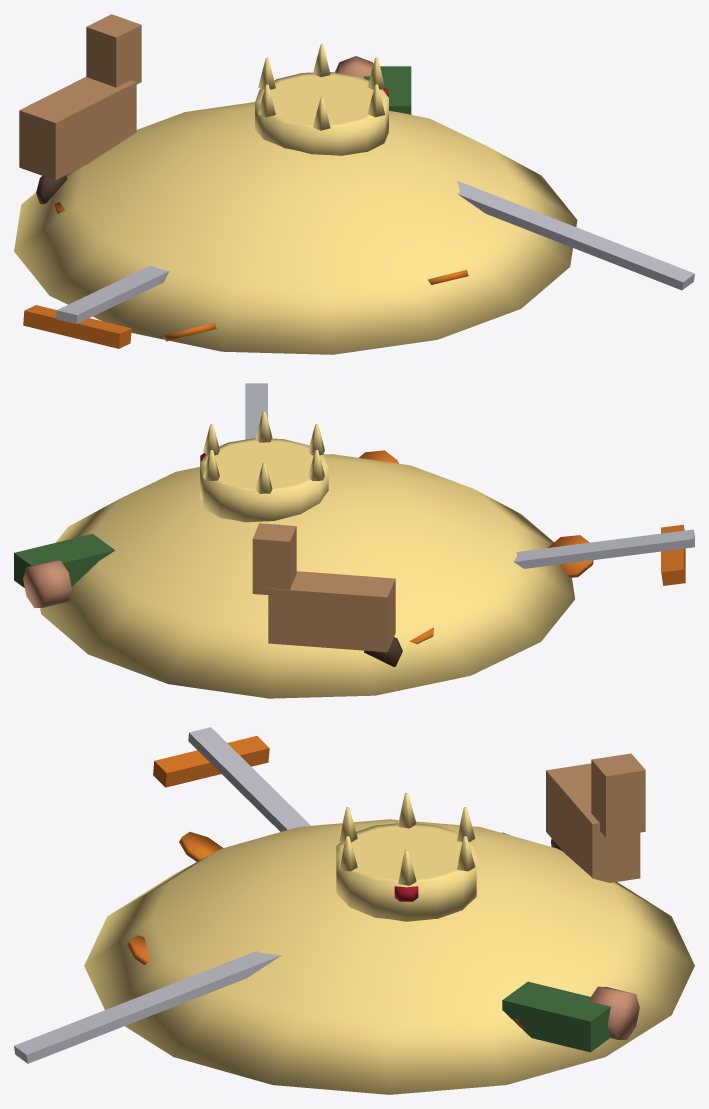
The model's file is offering_pile.glb.
3 renders of one model, top to bottom at view 1: azimuth 30°, elevation 25°; view 2: azimuth 150°, elevation 25°; view 3: azimuth 270°, elevation 25°, orthographic. The views are drawn at different scales.
Visible parts, largest first — view 1: offering_pile; view 2: offering_pile; view 3: offering_pile.
Part boxes in pixels (x1,y1,x2,y2): offering_pile: (14,14,694,354); offering_pile: (14,383,694,698); offering_pile: (14,727,694,1094).
Bounding box in the file's own units: 0.8496 × 0.2131 × 0.8026.
